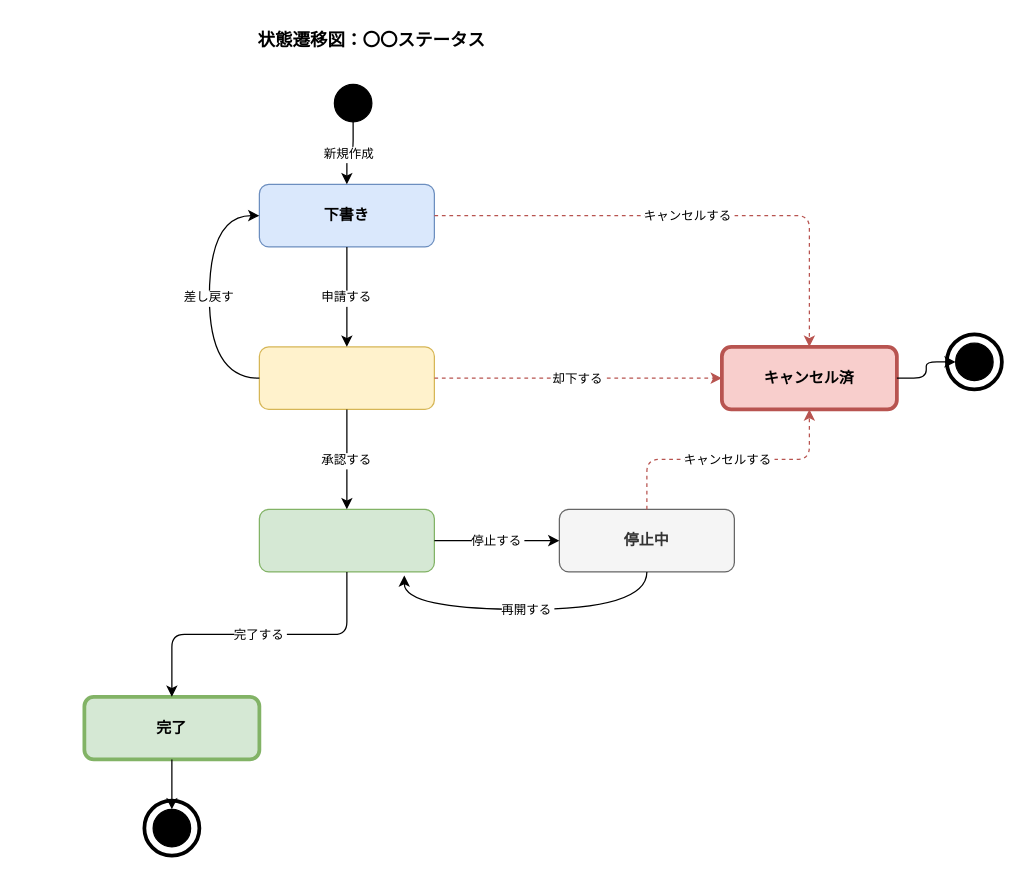
Some shapes in this 1025 by 879 pixel diagram are drawn without their labels. Each missing label, with the box of its shape:
承認待ち: (258, 346, 434, 409)
有効: (258, 508, 434, 572)
